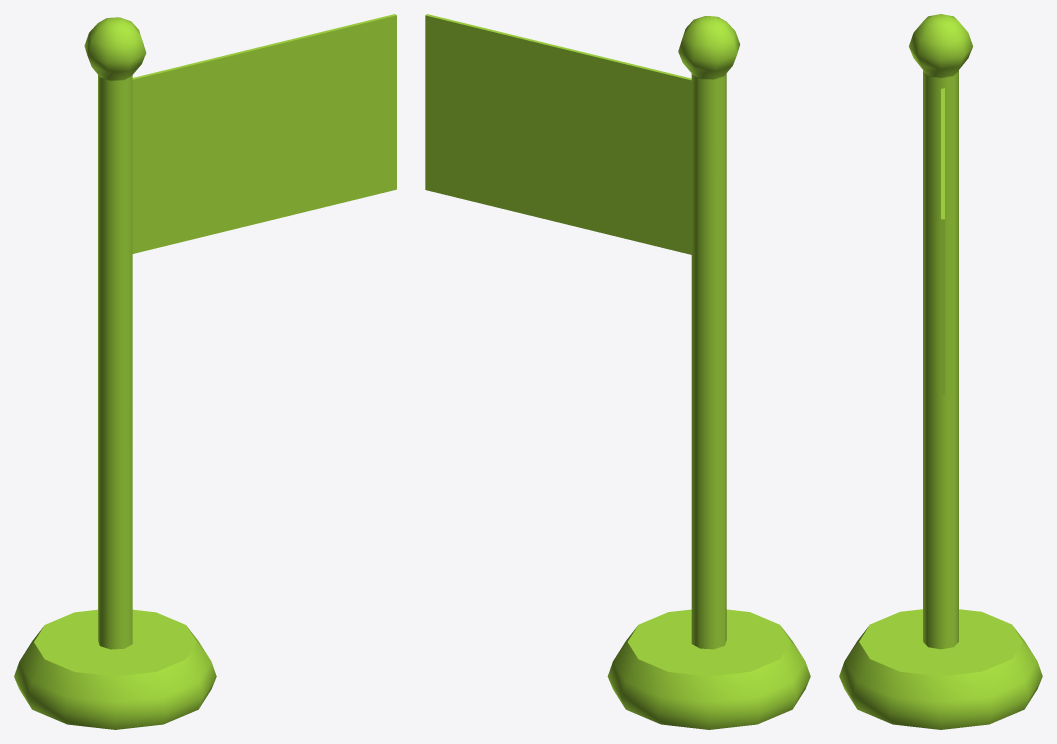
File: Player-Position-Flag-Rect.fbx
The picture shows the model from 3 angles, left to right: view 1: azimuth 30°, elevation 25°; view 2: azimuth 150°, elevation 25°; view 3: azimuth 270°, elevation 25°; orthographic projection.
Visible parts, largest first — view 1: Player-Position-Flag-Rect; view 2: Player-Position-Flag-Rect; view 3: Player-Position-Flag-Rect.
Part boxes in pixels (x1,y1,x2,y2): Player-Position-Flag-Rect: (14,14,396,729); Player-Position-Flag-Rect: (425,14,810,729); Player-Position-Flag-Rect: (839,14,1042,729).
Size of the model in its own units: 200 by 347 by 95.24.
1 material, 1 textured.
